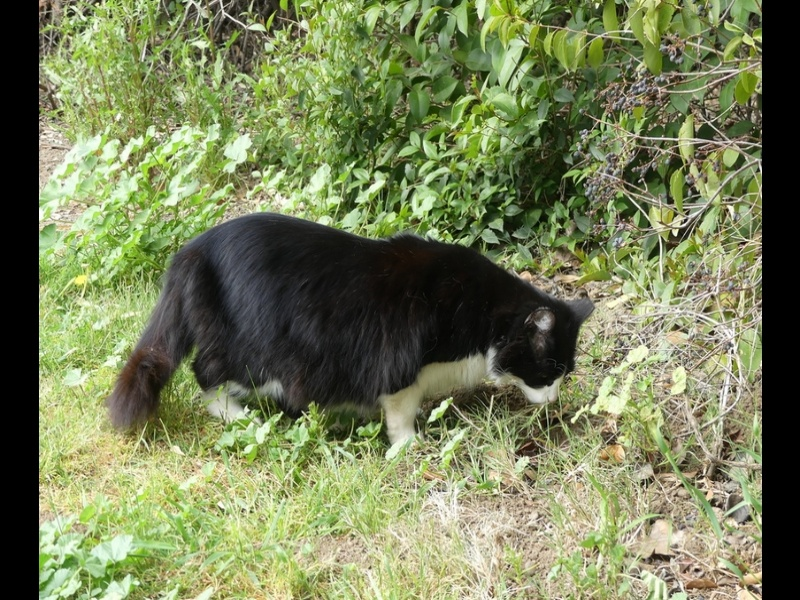cat: (107, 208, 596, 458)
